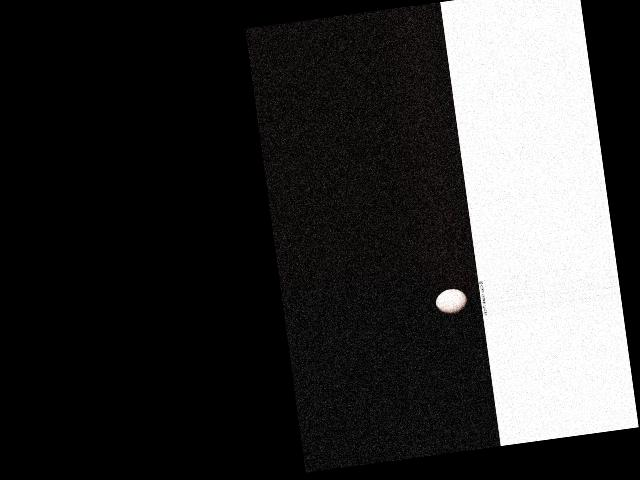egg: (434, 287, 469, 315)
